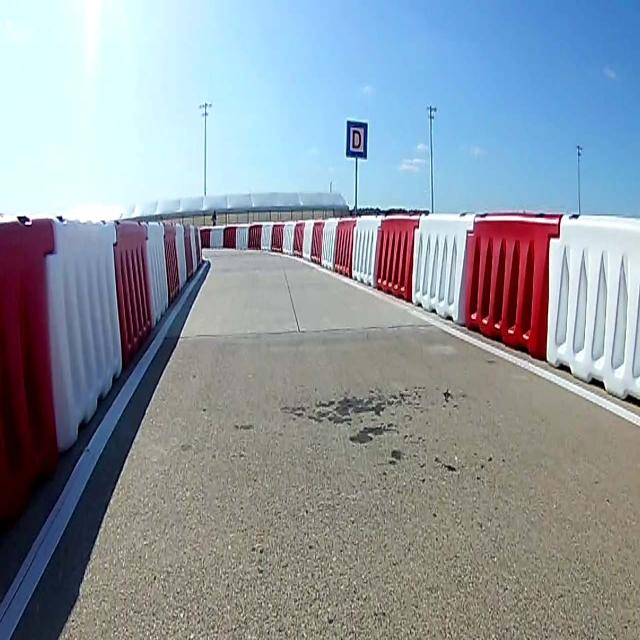durak: (346, 119, 368, 160)
